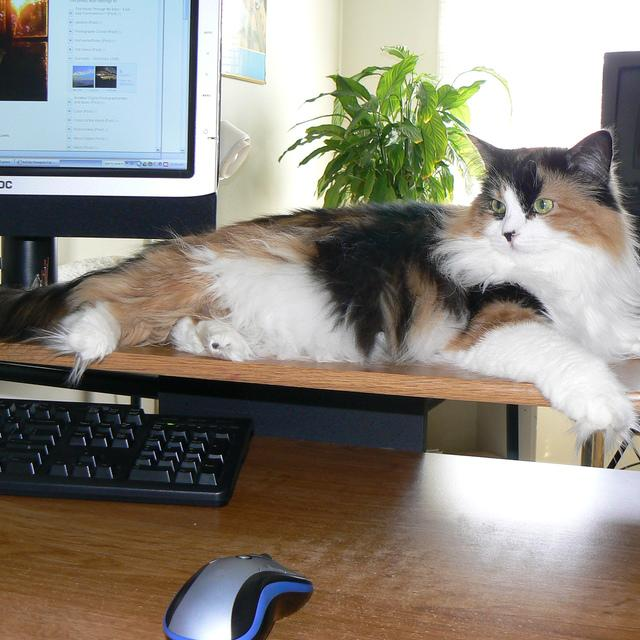animals: (468, 131, 605, 240)
